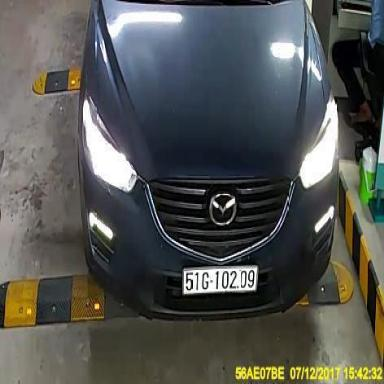License_Plate: (181, 262, 261, 296)
